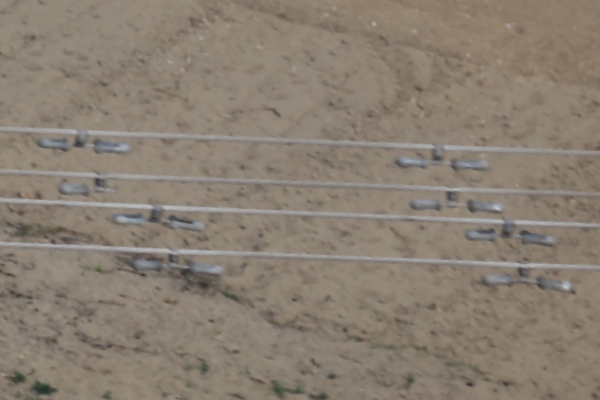damper: (107, 199, 208, 234), (391, 139, 493, 173), (406, 181, 506, 215), (479, 258, 575, 293), (129, 244, 225, 277), (463, 217, 557, 249), (34, 125, 133, 155)
damper_defect: (56, 167, 122, 196)
